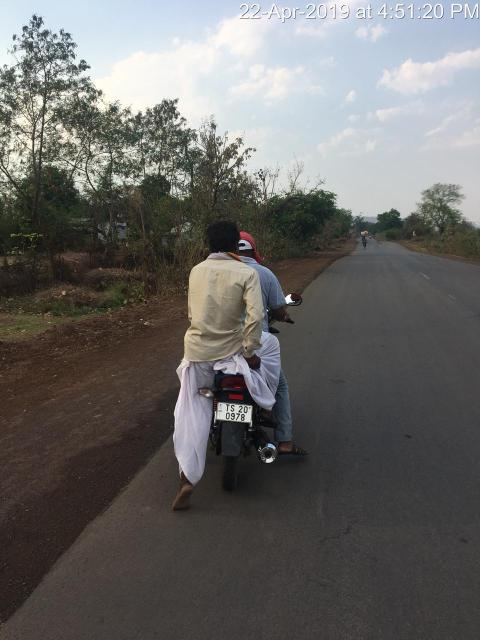motor: (197, 291, 306, 495)
non-helm: (205, 219, 243, 256), (234, 230, 265, 265)
